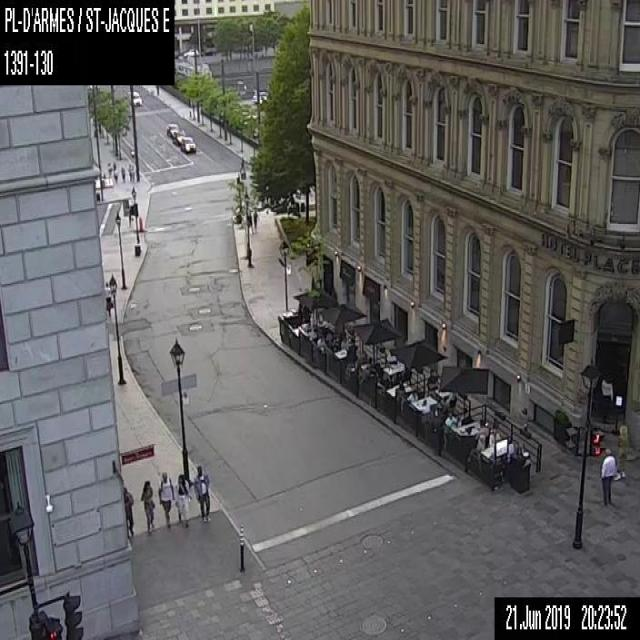pedestrian: (192, 464, 211, 522), (173, 472, 191, 528), (599, 448, 616, 506), (158, 470, 174, 529), (139, 477, 154, 532), (614, 424, 628, 480), (122, 486, 134, 538), (104, 280, 112, 315), (246, 209, 253, 235), (252, 208, 257, 230), (106, 162, 112, 177), (126, 163, 131, 181), (120, 163, 125, 180), (130, 164, 134, 182), (113, 168, 117, 184), (112, 160, 115, 170)
vehicle: (126, 89, 142, 106), (180, 136, 196, 152), (172, 129, 185, 145), (166, 122, 178, 137)
